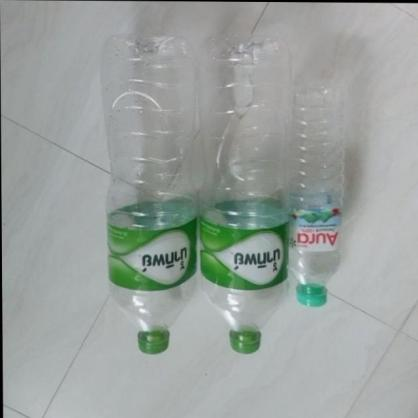bottle: (99, 30, 196, 355), (196, 31, 287, 354), (287, 78, 343, 308)
cap: (136, 328, 170, 356), (227, 330, 263, 353), (295, 288, 327, 307)
label: (199, 210, 284, 290), (105, 216, 193, 293), (289, 204, 342, 249)
